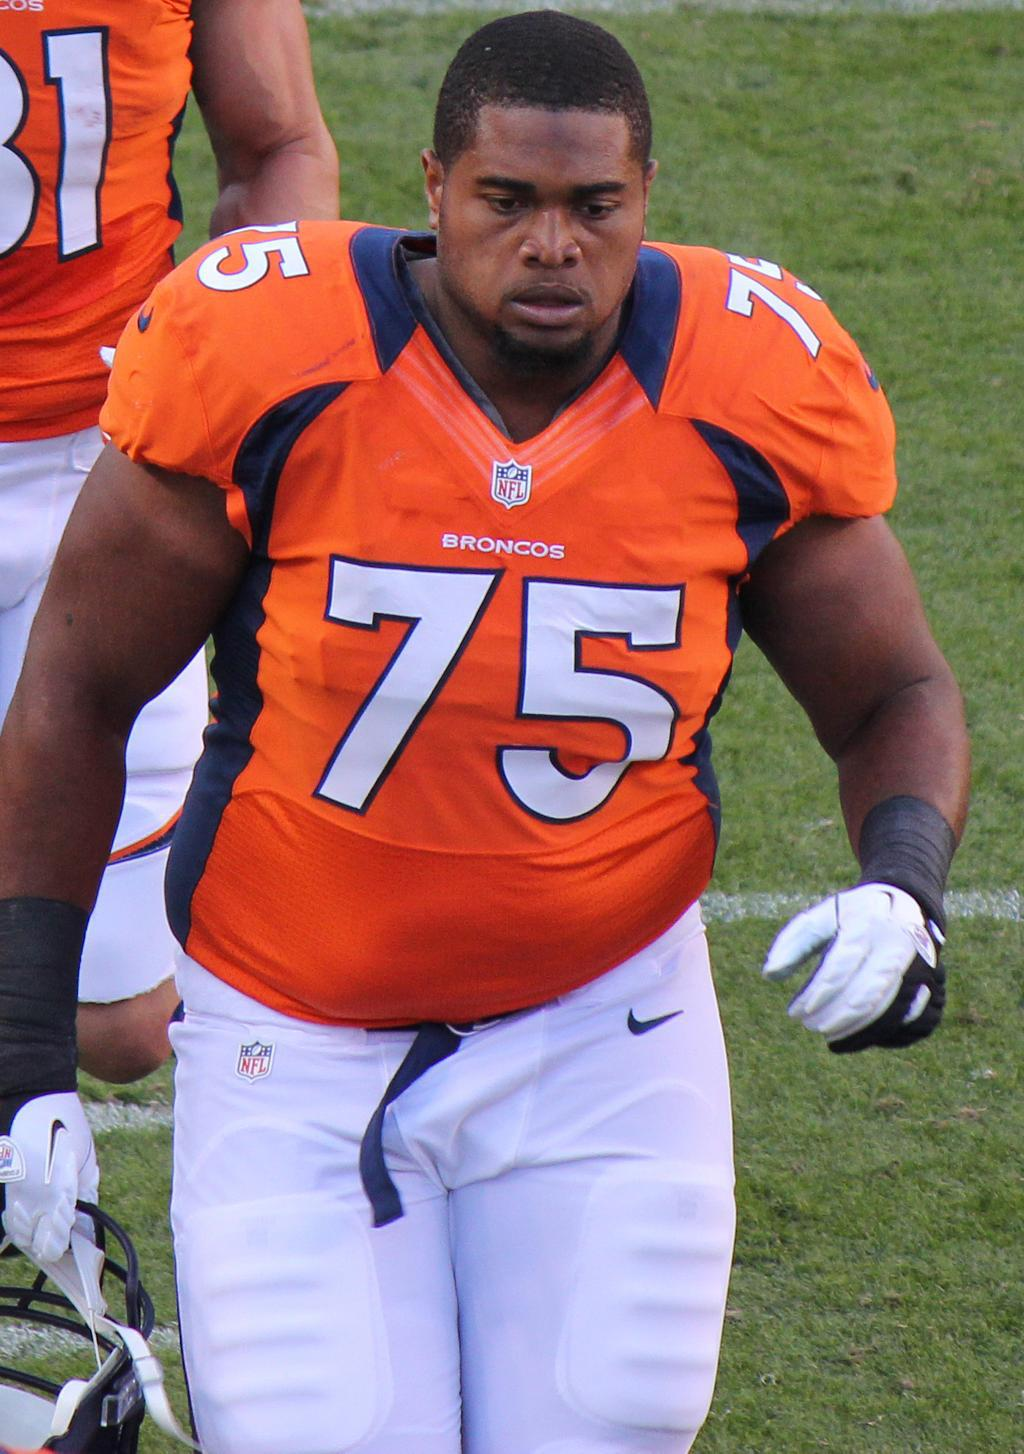face: (455, 117, 642, 352)
